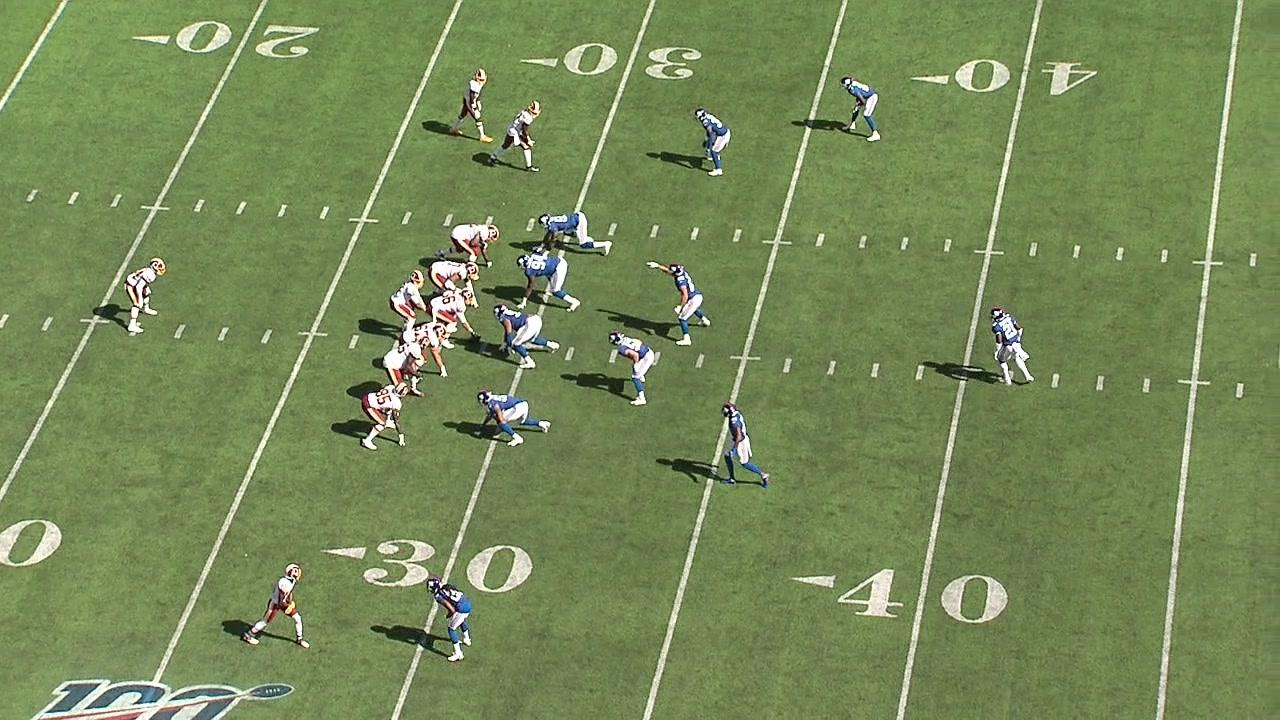player: (247, 559, 313, 648), (646, 257, 710, 344), (714, 400, 771, 493), (486, 97, 546, 174), (475, 388, 550, 447), (426, 575, 476, 662), (121, 250, 169, 336), (495, 303, 558, 367), (516, 252, 579, 314), (987, 305, 1034, 385), (605, 332, 654, 405), (837, 73, 887, 143), (361, 383, 410, 452), (536, 210, 610, 253), (454, 60, 490, 145), (427, 290, 481, 343), (381, 337, 425, 400), (440, 219, 499, 265), (693, 106, 730, 178), (402, 326, 450, 380), (392, 267, 431, 326), (429, 260, 484, 289)
